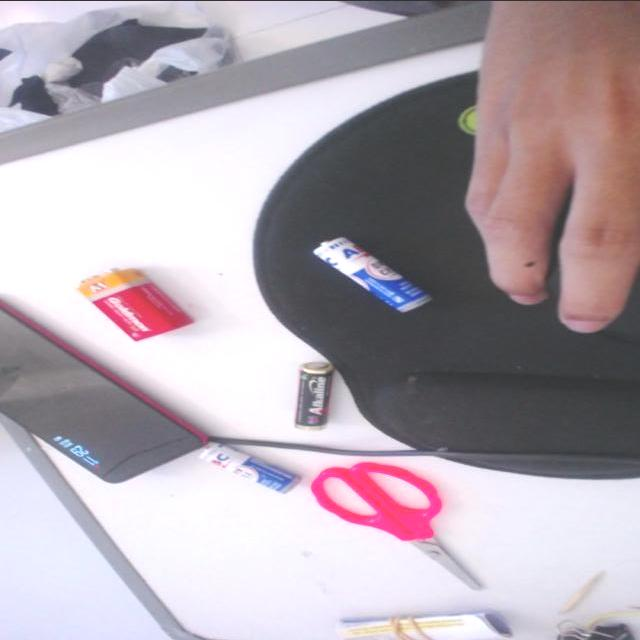9V: (68, 255, 196, 353)
AA: (299, 218, 432, 308), (192, 431, 302, 497), (286, 353, 352, 438)
